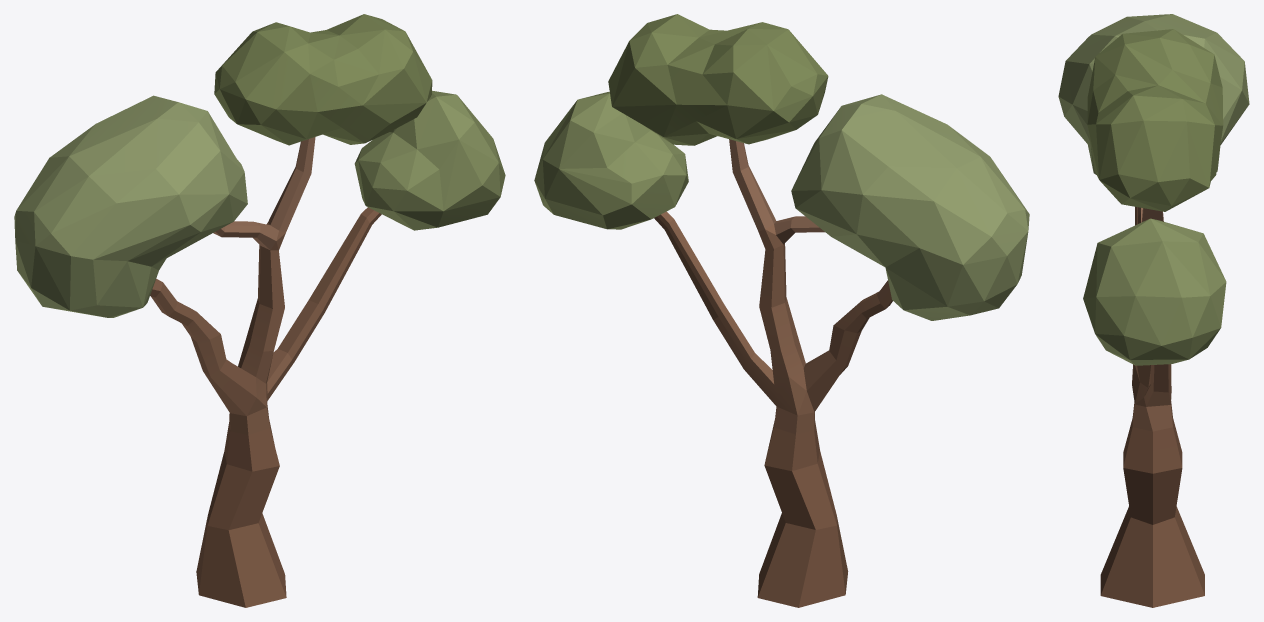
The model's file is tropical_tree_3.fbx.
3 views of the same model, side by side, from view 1: azimuth 30°, elevation 25°; view 2: azimuth 150°, elevation 25°; view 3: azimuth 270°, elevation 25° (orthographic). The views are drawn at different scales.
Parts seen in each view (by area): view 1: tropical_trees_3; view 2: tropical_trees_3; view 3: tropical_trees_3.
Boxes of the visible parts, x1=… form: tropical_trees_3: x1=14, y1=14, x2=505, y2=607; tropical_trees_3: x1=534, y1=14, x2=1029, y2=607; tropical_trees_3: x1=1058, y1=14, x2=1249, y2=607.
Size of the model in its own units: 602 by 663 by 200.
